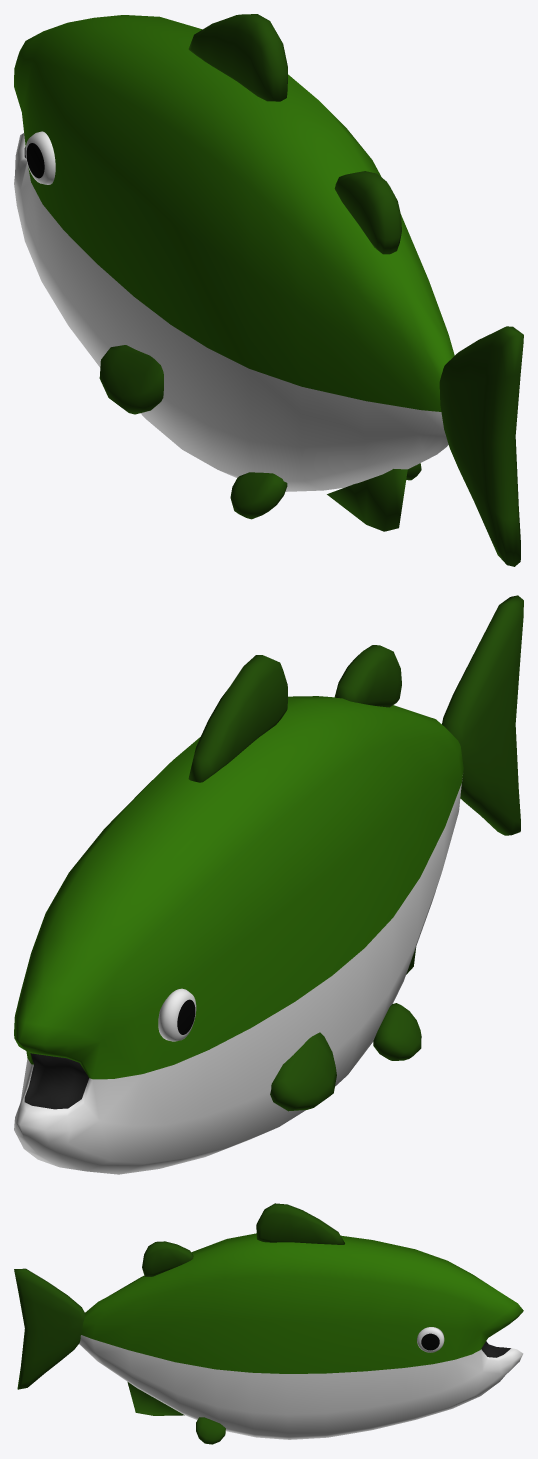
File: Green Fish.fbx
3 renders of one model, top to bottom at view 1: azimuth 30°, elevation 25°; view 2: azimuth 150°, elevation 25°; view 3: azimuth 270°, elevation 25°, orthographic. The views are drawn at different scales.
Visible parts, largest first — view 1: Cube.059; view 2: Cube.059; view 3: Cube.059.
Boxes of the visible parts, x1,y1,x2,y2 form: Cube.059: (14,14,523,566); Cube.059: (14,595,523,1174); Cube.059: (14,1203,523,1444).
Size of the model in its own units: 25.62 by 55.77 by 113.
